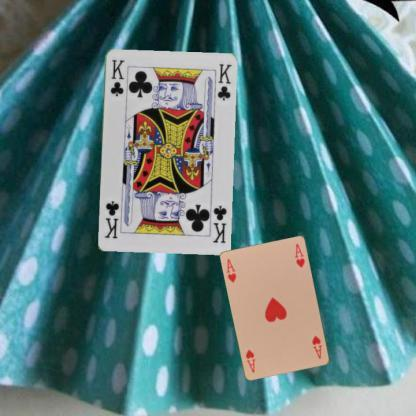Ah: (223, 256, 238, 284), (310, 333, 324, 360)
Kc: (210, 203, 228, 245), (108, 57, 126, 97)
